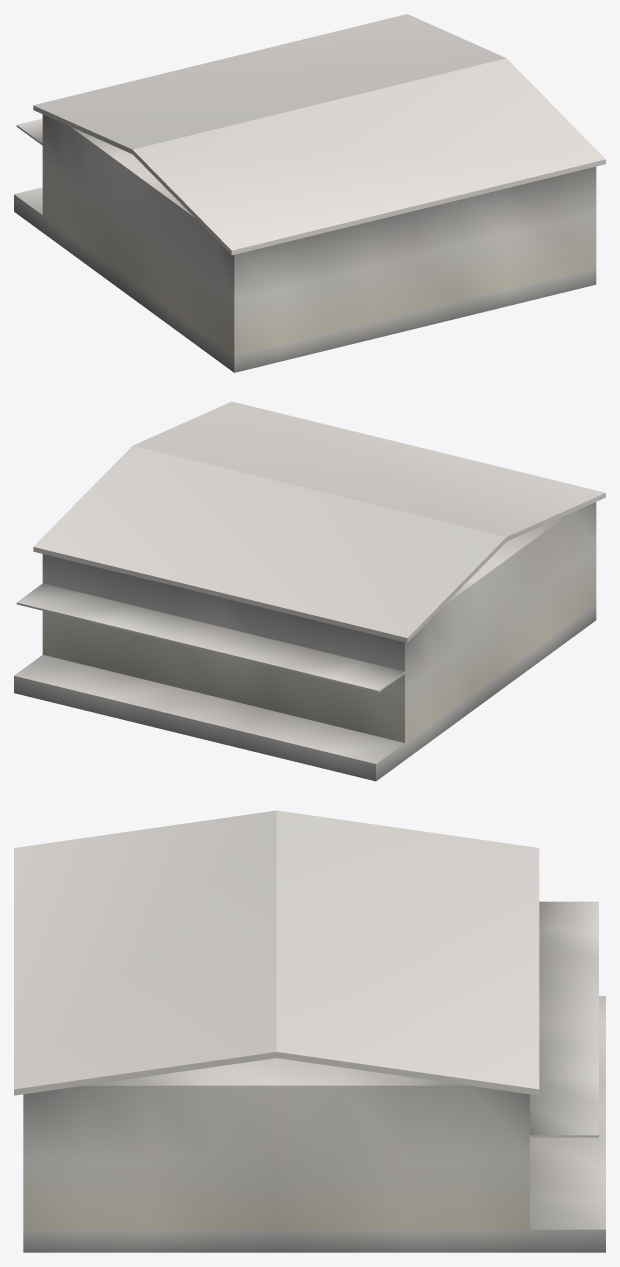
The model's file is freight_depot_lod1.glb.
3 views of the same model, one above another, from view 1: azimuth 30°, elevation 25°; view 2: azimuth 150°, elevation 25°; view 3: azimuth 270°, elevation 25° (orthographic). The views are drawn at different scales.
Parts seen in each view (by area): view 1: freight_depot_lod1; view 2: freight_depot_lod1; view 3: freight_depot_lod1.
Part boxes in pixels (x1,y1,x2,y2): freight_depot_lod1: (14, 14, 605, 372); freight_depot_lod1: (14, 401, 605, 781); freight_depot_lod1: (14, 810, 605, 1252).
Size of the model in its own units: 24.8 by 9.8 by 25.7.
